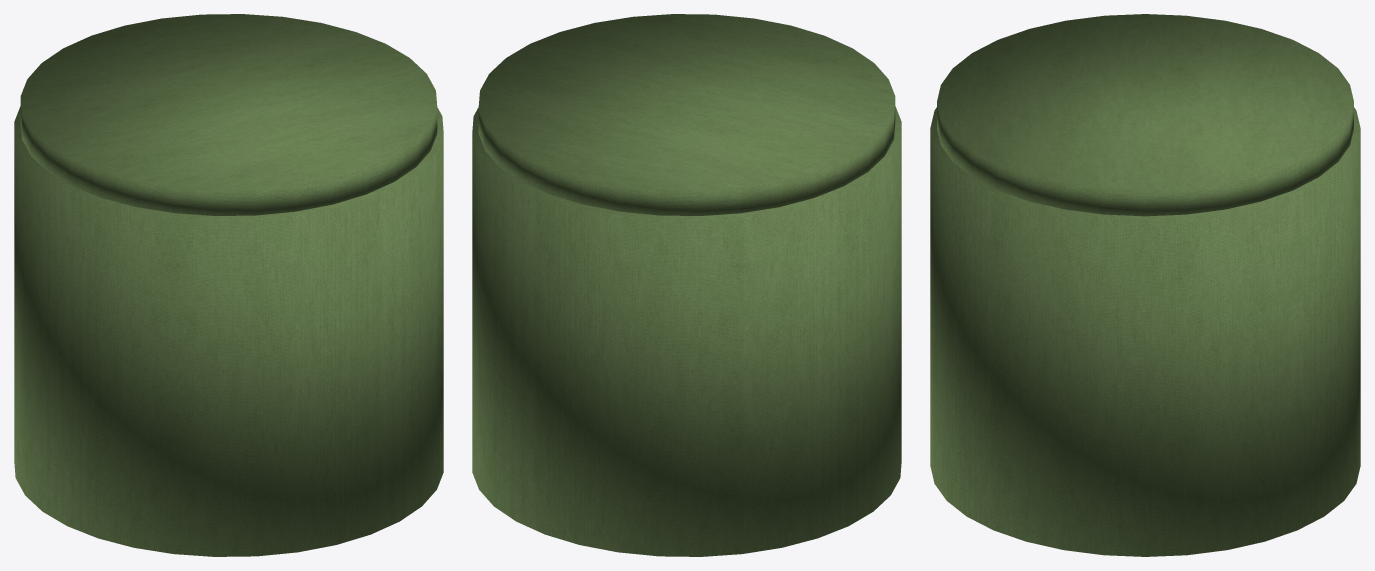
Rendered from lounge.ottoman-pouf.glb.
3 views of the same model, side by side, from view 1: azimuth 30°, elevation 25°; view 2: azimuth 150°, elevation 25°; view 3: azimuth 270°, elevation 25° (orthographic).
Parts seen in each view (by area): view 1: lounge.ottoman-pouf.001; view 2: lounge.ottoman-pouf.001; view 3: lounge.ottoman-pouf.001.
Part boxes in pixels (x1,y1,x2,y2): lounge.ottoman-pouf.001: (14,14,443,556); lounge.ottoman-pouf.001: (472,14,901,556); lounge.ottoman-pouf.001: (930,14,1360,556).
Size of the model in its own units: 0.45 by 0.42 by 0.45.
Materials: 1 (1 with a texture image).
